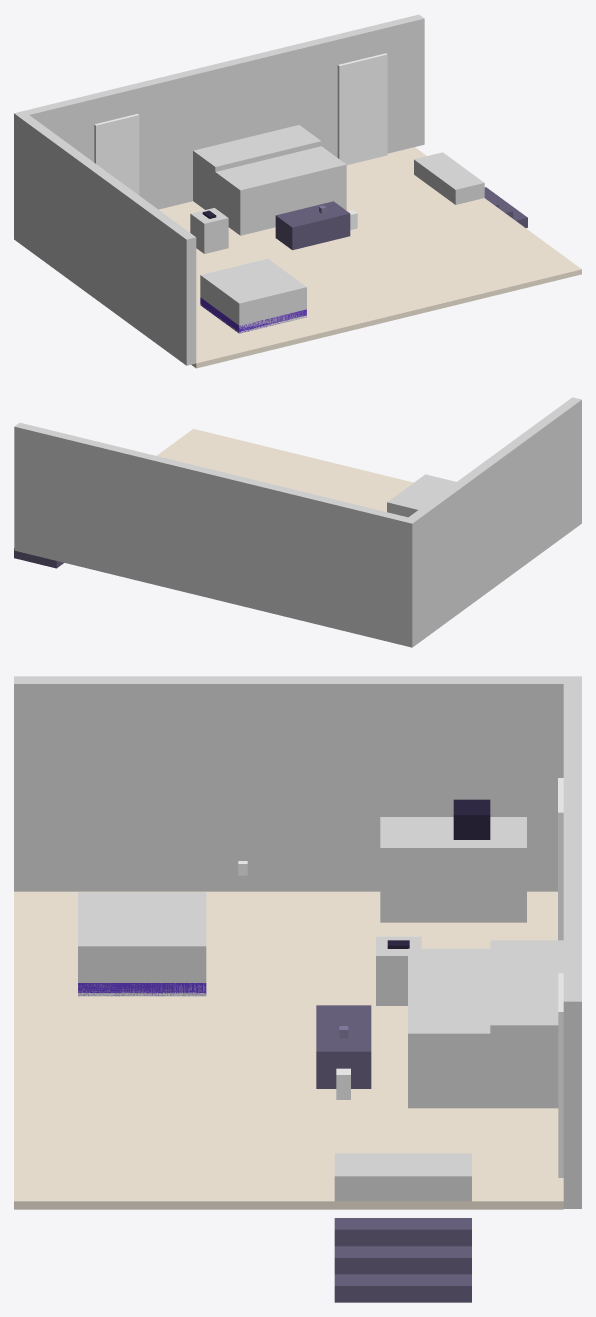
The model's file is salon_crawler.glb.
3 views of the same model, one above another, from view 1: azimuth 30°, elevation 25°; view 2: azimuth 150°, elevation 25°; view 3: azimuth 270°, elevation 25° (orthographic). The views are drawn at different scales.
Parts seen in each view (by area): view 1: floor, COL_wall_back, COL_wall_side, COL_sofa, ZONE_safe_playpen, door_frame, ZONE_hidden_behind_sofa, toilet_door, coffee_table, COL_stairs, COL_side_table, playpen; view 2: COL_wall_back, COL_wall_side, floor, ZONE_safe_playpen; view 3: floor, COL_wall_side, COL_counter, COL_sofa, ZONE_safe_playpen, ZONE_hidden_behind_sofa, COL_wall_back, COL_stairs, coffee_table, stairs_step_3, stairs_step_1, stairs_step_2 (+5 smaller).
Boxes of the visible parts, x1,y1,x2,y2 form: floor: (159,147,581,368); COL_wall_back: (14,14,424,243); COL_wall_side: (19,115,196,365); COL_sofa: (215,146,346,235); ZONE_safe_playpen: (200,258,306,330); door_frame: (337,53,387,164); ZONE_hidden_behind_sofa: (193,125,321,209); toilet_door: (94,114,139,195); coffee_table: (275,201,350,250); COL_stairs: (414,152,484,204); COL_side_table: (190,208,228,253); playpen: (200,297,306,333); COL_wall_back: (14,422,417,647); COL_wall_side: (408,397,581,643); floor: (156,429,413,511); ZONE_safe_playpen: (387,474,456,517); floor: (14,891,563,1209); COL_wall_side: (14,676,563,891); COL_counter: (380,817,526,922); COL_sofa: (408,948,490,1108); ZONE_safe_playpen: (78,892,206,996); ZONE_hidden_behind_sofa: (490,940,563,1108); COL_wall_back: (563,676,581,1208); COL_stairs: (334,1153,471,1201); coffee_table: (316,1005,371,1088); stairs_step_3: (334,1274,471,1302); stairs_step_1: (334,1218,471,1246); stairs_step_2: (334,1246,471,1274).
Size of the model in its own units: 9.1 by 3.3 by 6.2.
